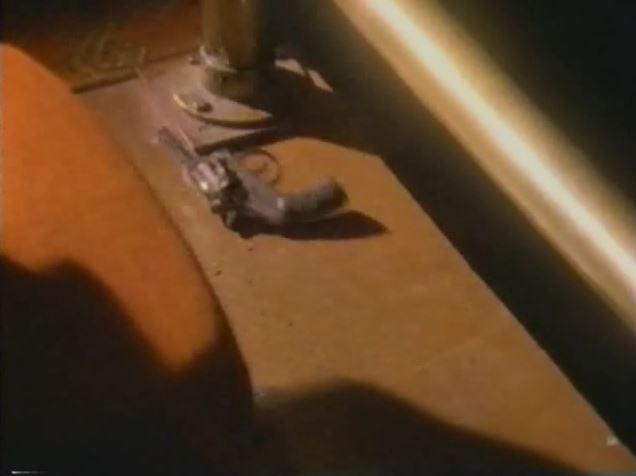gun: (144, 118, 361, 226)
